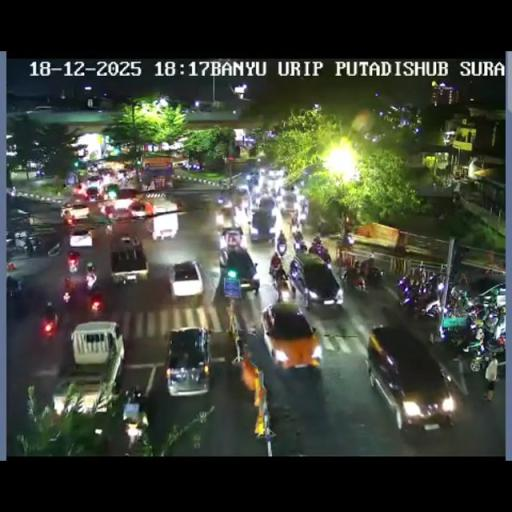Car: (368, 325, 454, 429), (52, 322, 126, 418), (259, 302, 321, 370), (164, 326, 210, 395), (288, 251, 342, 307), (218, 248, 260, 296), (109, 238, 147, 286), (145, 199, 179, 240), (169, 260, 203, 298), (473, 281, 505, 311), (249, 205, 275, 241), (62, 200, 90, 222), (215, 202, 235, 232), (220, 226, 244, 250), (69, 226, 93, 248), (126, 200, 150, 218), (280, 192, 297, 216), (115, 188, 139, 203), (67, 250, 81, 272), (266, 167, 284, 180), (85, 186, 100, 200)
Motorcycle: (440, 315, 479, 356), (226, 297, 252, 343), (398, 279, 427, 314), (481, 313, 505, 352), (269, 252, 289, 298), (123, 417, 147, 454), (442, 289, 470, 318), (6, 277, 26, 316), (421, 271, 444, 300), (342, 263, 364, 291), (40, 310, 58, 342), (362, 263, 384, 289), (132, 388, 147, 425), (422, 297, 444, 320), (464, 302, 486, 324), (309, 241, 330, 263), (62, 275, 76, 305), (233, 205, 250, 229), (291, 229, 306, 252), (316, 217, 332, 237), (25, 236, 42, 254), (410, 266, 424, 286), (340, 232, 355, 248), (85, 270, 97, 290), (216, 192, 230, 208), (6, 236, 19, 253), (247, 175, 258, 194), (290, 210, 300, 229), (276, 238, 286, 256), (394, 243, 408, 255), (364, 252, 374, 268), (298, 206, 308, 222), (269, 184, 279, 198), (459, 271, 468, 286), (104, 222, 114, 235), (246, 220, 252, 238), (86, 261, 95, 273), (311, 232, 321, 242)
